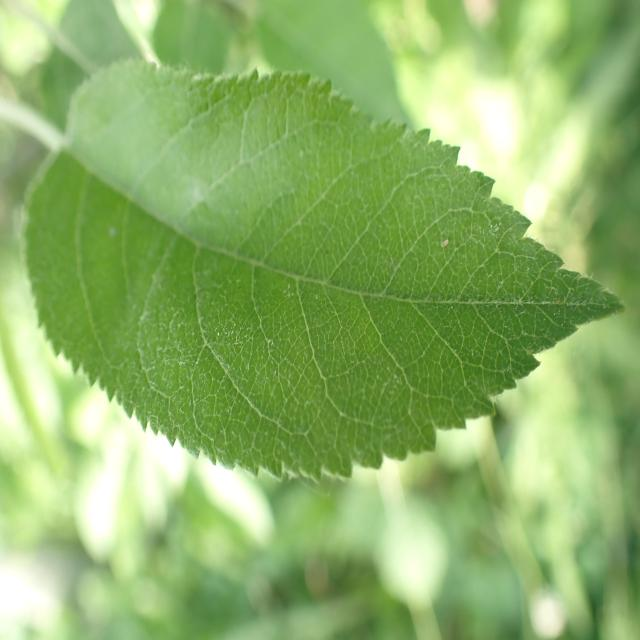healthy: (23, 56, 624, 487)
